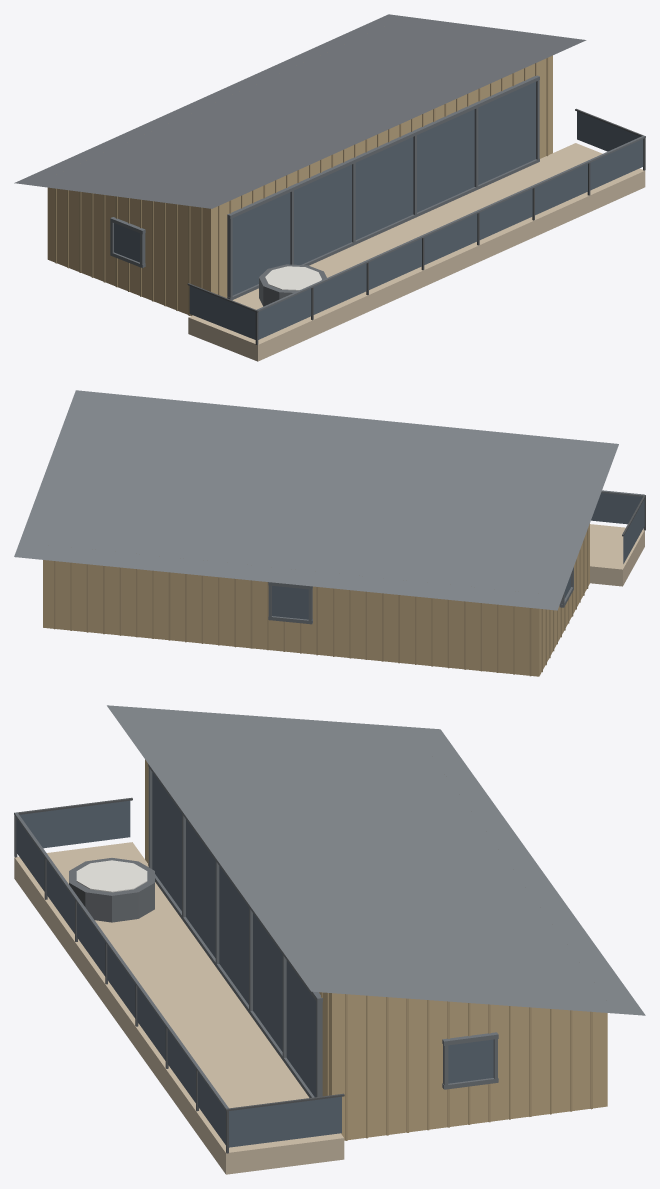
The picture shows the model from 3 angles, top to bottom: view 1: azimuth 30°, elevation 25°; view 2: azimuth 150°, elevation 25°; view 3: azimuth 270°, elevation 25°; orthographic projection. The views are drawn at different scales.
Parts seen in each view (by area): view 1: slate, door_wood, larch, slate_dk, window_glass_012, window_glass_014, window_glass_013, window_glass_011, window_glass_010, door_wood_p, window_glass_008, window_glass_002 (+11 smaller); view 2: slate, door_wood, door_wood_p, larch, window_glass_001, window_glass_016, slate_dk, window_glass_008; view 3: slate, door_wood, larch, slate_dk, door_wood_p, window_glass_009, window_glass_008, window_glass_014, window_glass_012, window_glass_011, window_glass_013, window_glass_010 (+11 smaller).
Boxes of the visible parts, <box> form: slate: <box>14,14,586,208</box>; door_wood: <box>47,55,552,315</box>; larch: <box>188,143,645,361</box>; slate_dk: <box>110,75,644,311</box>; window_glass_012: <box>355,137,413,239</box>; window_glass_014: <box>478,81,535,184</box>; window_glass_013: <box>417,109,474,212</box>; window_glass_011: <box>294,164,351,264</box>; window_glass_010: <box>232,192,290,295</box>; door_wood_p: <box>55,58,548,315</box>; window_glass_008: <box>189,286,255,339</box>; window_glass_002: <box>313,263,366,314</box>; slate: <box>14,390,618,610</box>; door_wood: <box>43,523,589,676</box>; door_wood_p: <box>54,528,588,676</box>; larch: <box>590,524,644,586</box>; window_glass_001: <box>591,493,642,524</box>; window_glass_016: <box>272,586,308,619</box>; slate_dk: <box>268,490,644,624</box>; window_glass_008: <box>623,499,644,563</box>; slate: <box>107,705,645,1015</box>; door_wood: <box>145,759,607,1140</box>; larch: <box>14,842,344,1174</box>; slate_dk: <box>14,764,498,1109</box>; door_wood_p: <box>148,764,592,1140</box>; window_glass_009: <box>229,1096,341,1147</box>; window_glass_008: <box>19,800,130,848</box>; window_glass_014: <box>286,960,316,1097</box>; window_glass_012: <box>219,866,248,1004</box>; window_glass_011: <box>186,819,215,957</box>; window_glass_013: <box>253,913,282,1051</box>; window_glass_010: <box>152,772,181,910</box>.
Bounding box in the file's own units: 17.25 × 3.88 × 13.3.
